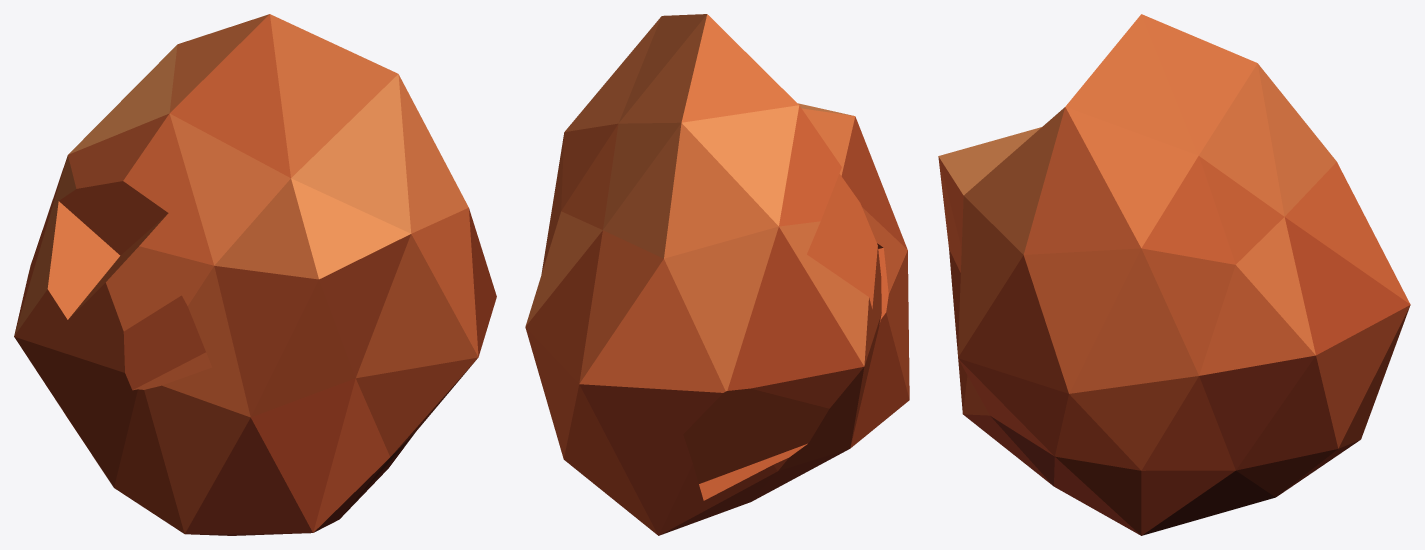
File: SM_BOULDER_05.fbx
3 renders of one model, left to right at view 1: azimuth 30°, elevation 25°; view 2: azimuth 150°, elevation 25°; view 3: azimuth 270°, elevation 25°, orthographic. The views are drawn at different scales.
Parts seen in each view (by area): view 1: BOULDER_05; view 2: BOULDER_05; view 3: BOULDER_05.
Boxes of the visible parts, box(x1,y1,x2,y2) form: BOULDER_05: box(14, 14, 496, 535); BOULDER_05: box(525, 14, 909, 535); BOULDER_05: box(938, 14, 1410, 535).
Bounding box in the file's own units: 2.27 × 2.39 × 2.6.
